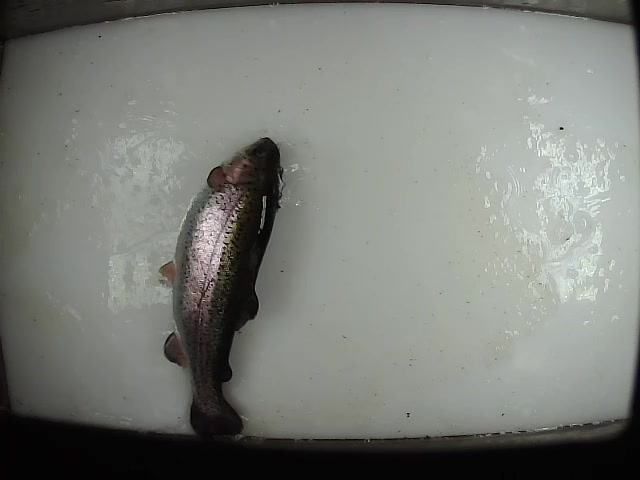fish: (155, 136, 288, 438)
